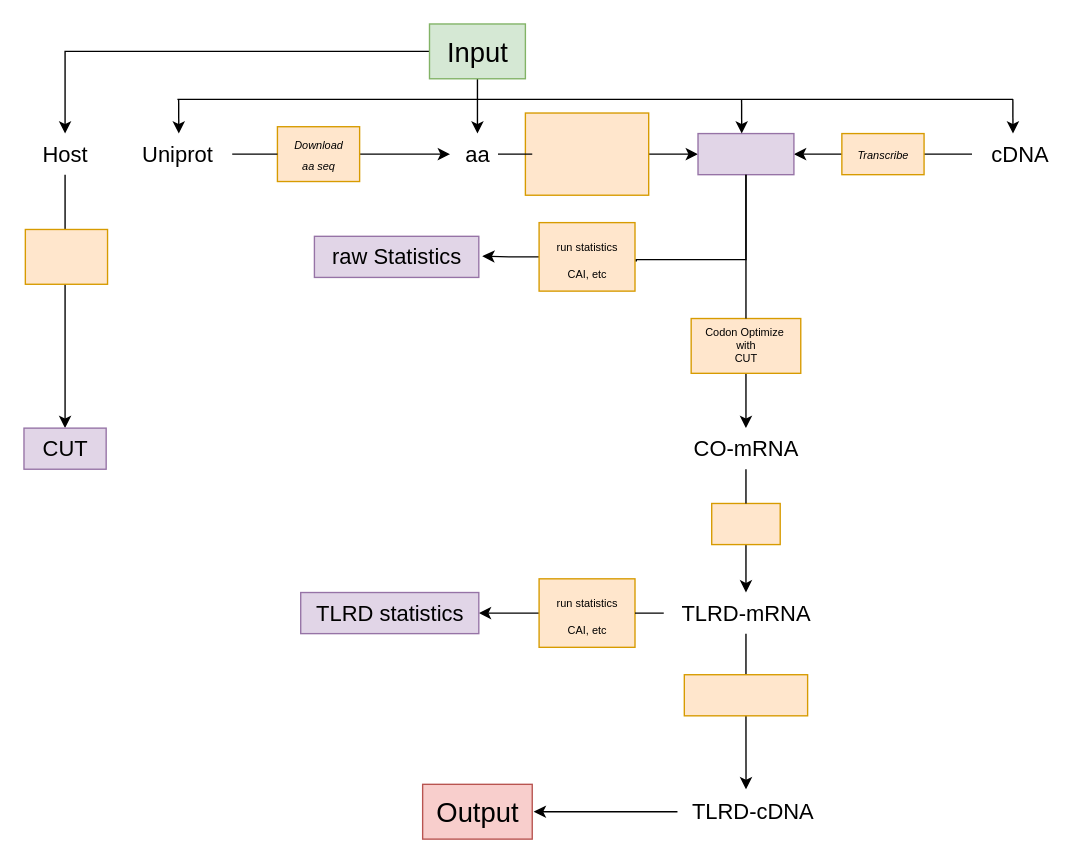
Image size: 1092x863. Some labels were removed from this diagram. Here are the shapes that lost their labels. From the top down, the centre of each, then its label:
the point at 586,153: Reverse Translate with Standard CUT
the point at 745,153: mRNA
the point at 66,256: Download CUT
the point at 745,523: Tailor
the point at 745,694: Reverse Transcribe
